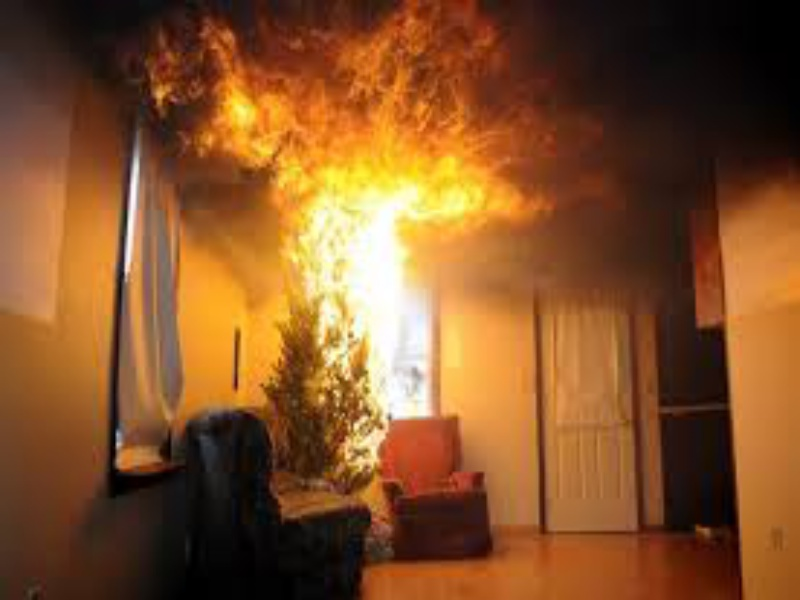fire: (133, 1, 565, 235), (275, 236, 408, 415)
